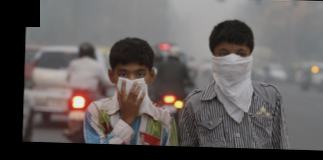with_mask: (212, 45, 252, 80), (112, 65, 150, 100)
